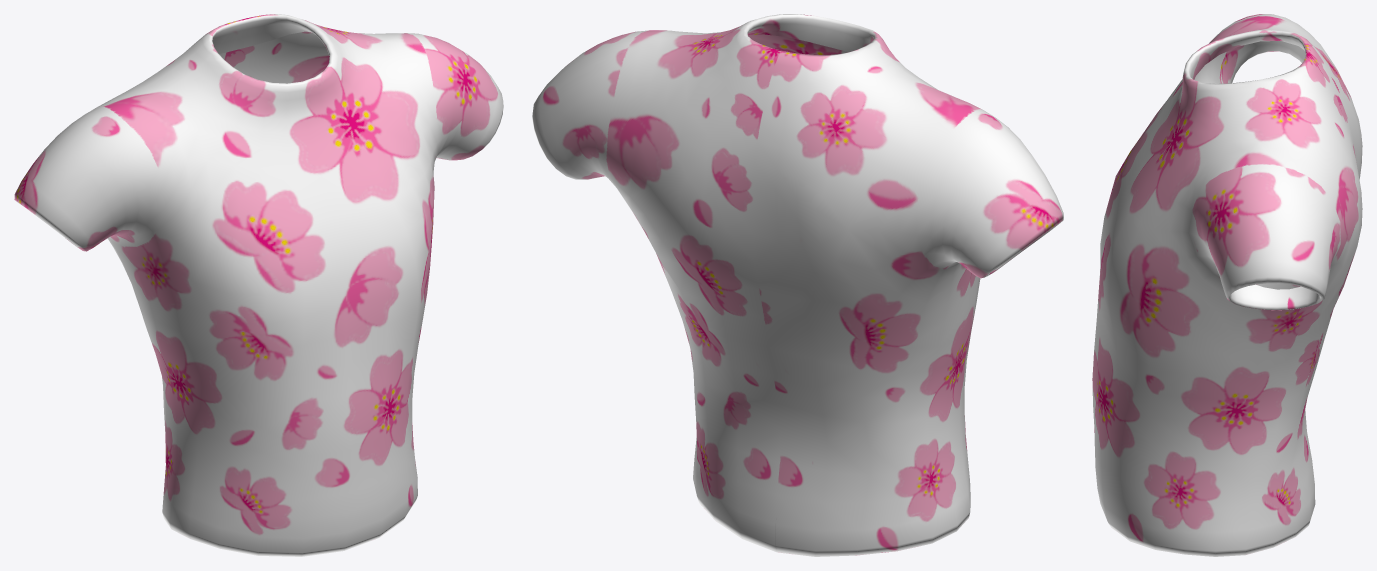
Rendered from Basic Tee3 Catalog_Model.fbx.
The picture shows the model from 3 angles, left to right: view 1: azimuth 30°, elevation 25°; view 2: azimuth 150°, elevation 25°; view 3: azimuth 270°, elevation 25°; orthographic projection. The views are drawn at different scales.
Visible parts, largest first — view 1: Basic Tee3; view 2: Basic Tee3; view 3: Basic Tee3.
Part boxes in pixels (x1,y1,x2,y2): Basic Tee3: [14, 14, 503, 556]; Basic Tee3: [532, 14, 1063, 556]; Basic Tee3: [1092, 14, 1362, 556].
Size of the model in its own units: 939 by 871 by 463.
Materials: 1 (1 with a texture image).
